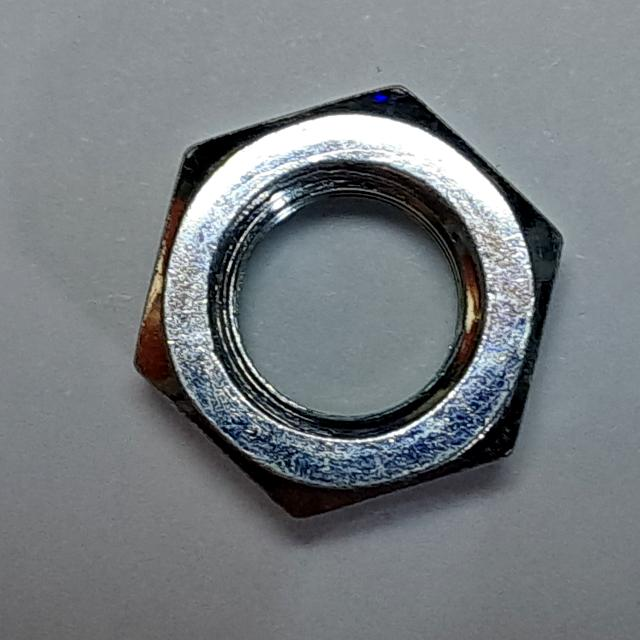Excellent: (111, 70, 587, 539)
